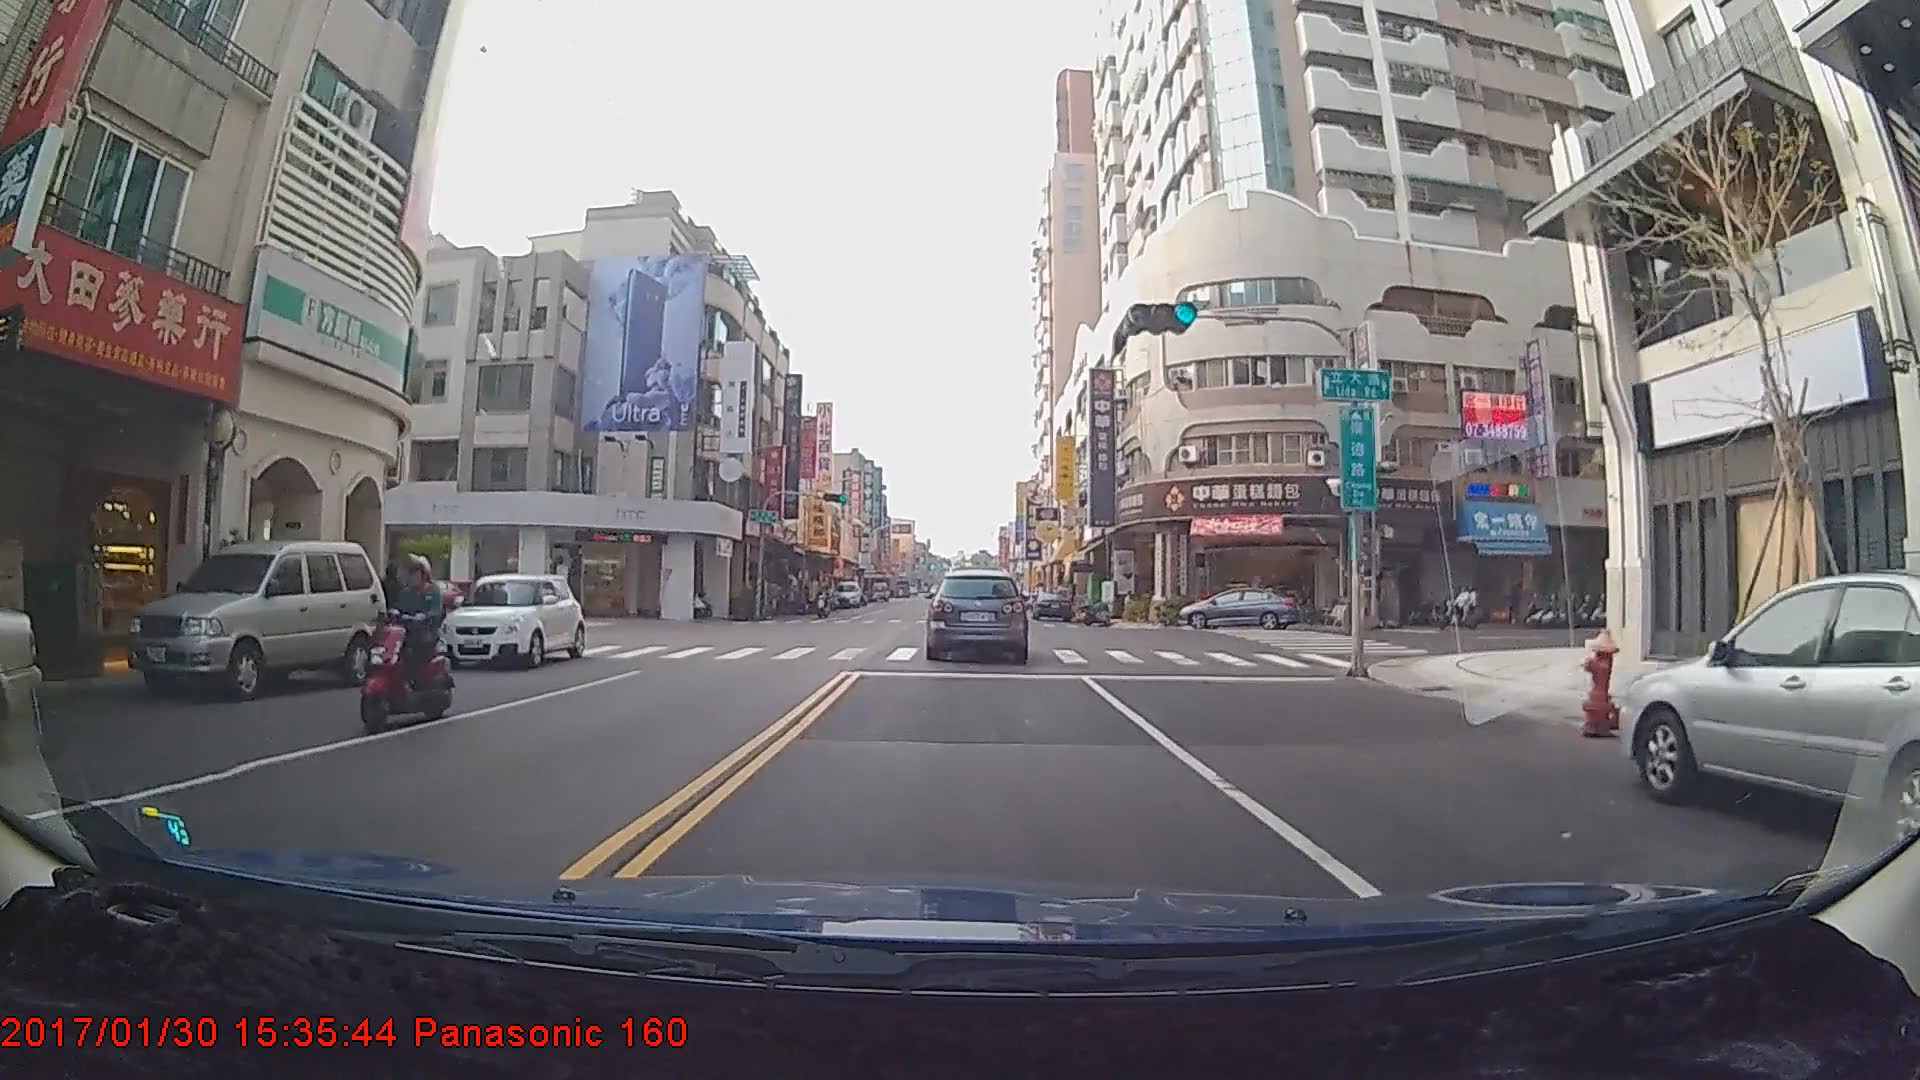rider: (357, 559, 461, 735), (1428, 582, 1478, 632), (808, 589, 836, 627)
vehicle: (1619, 569, 1920, 868), (125, 538, 389, 700), (440, 573, 586, 669), (928, 566, 1027, 661), (1177, 583, 1303, 632), (1033, 589, 1073, 620), (834, 580, 861, 609)
